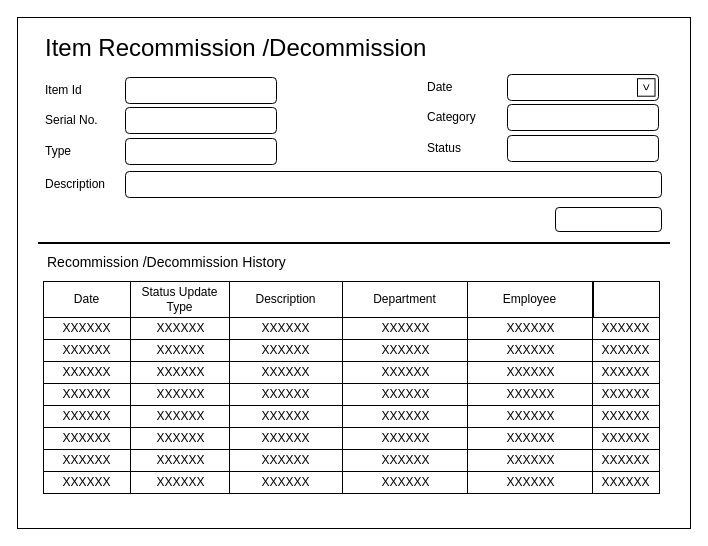
Image size: 708x546. Some labels were removed from this diagram. Here are the shapes that lost their labels. From the top down, the centre of each, then its label:
At (x=608, y=219): "Update Status".
At (x=626, y=299): "Admin".
